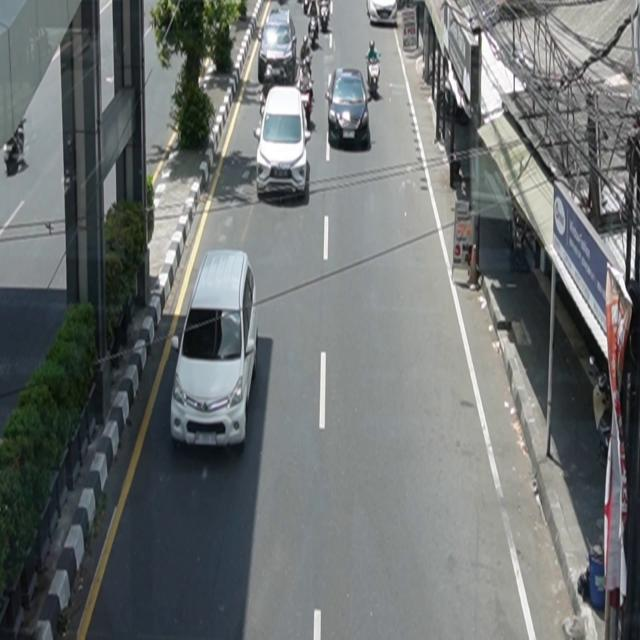car: (171, 250, 259, 452), (326, 68, 370, 148), (367, 1, 398, 26)
